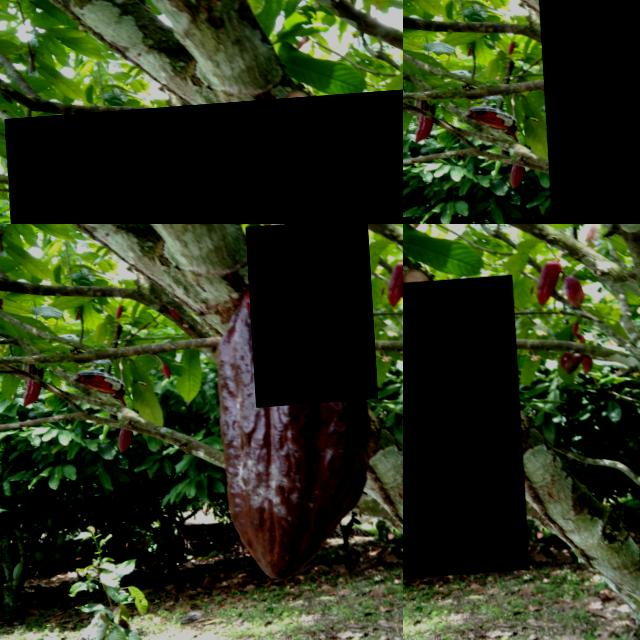Fitoftora: (2, 96, 403, 224), (403, 281, 523, 584), (244, 225, 374, 412), (534, 0, 640, 224)
Sana: (533, 270, 563, 313)
